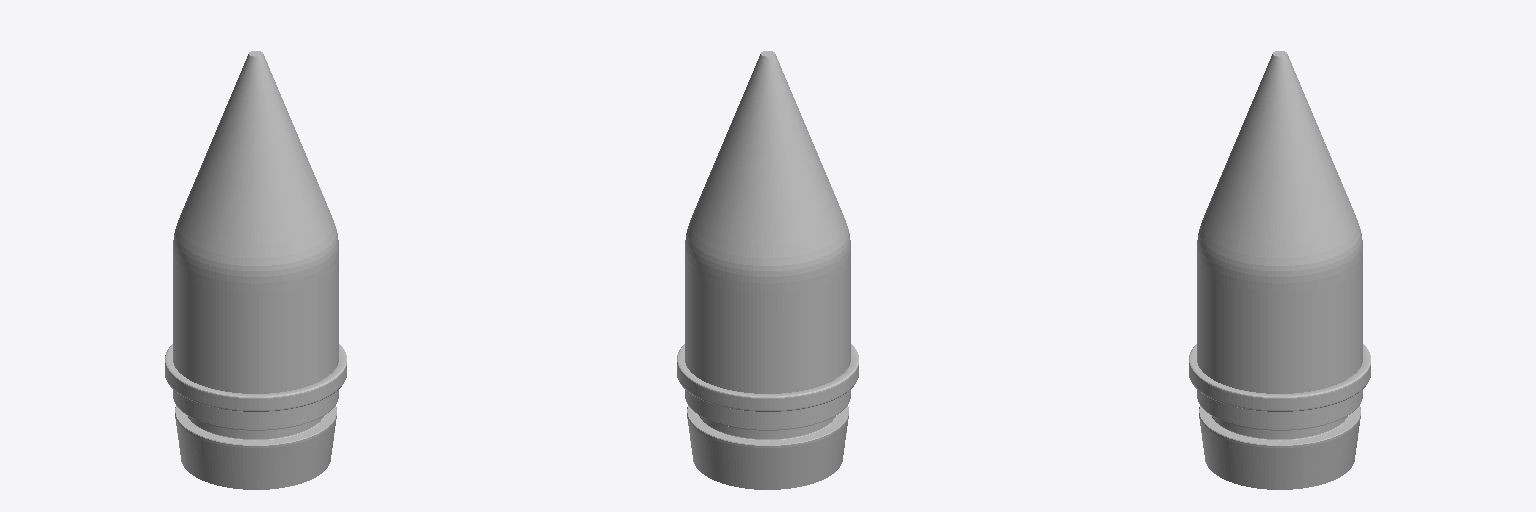
Rendered from 20mm Bullet.obj.
3 views of the same model, side by side, from view 1: azimuth 30°, elevation 25°; view 2: azimuth 150°, elevation 25°; view 3: azimuth 270°, elevation 25° (orthographic).
Parts seen in each view (by area): view 1: Bullet_Cylinder; view 2: Bullet_Cylinder; view 3: Bullet_Cylinder.
Boxes of the visible parts, <box> form: Bullet_Cylinder: <box>165,51,346,489</box>; Bullet_Cylinder: <box>677,51,858,489</box>; Bullet_Cylinder: <box>1189,51,1370,489</box>.
Bounding box in the file's own units: 2.23 × 5.45 × 2.23.